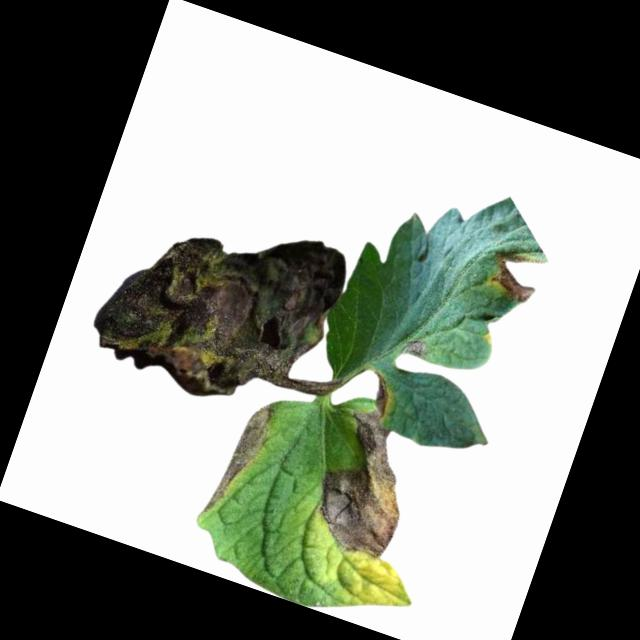Early_blight: (82, 179, 354, 429), (304, 406, 430, 567), (203, 395, 278, 524), (482, 243, 547, 307), (358, 368, 398, 417), (402, 336, 428, 360)
